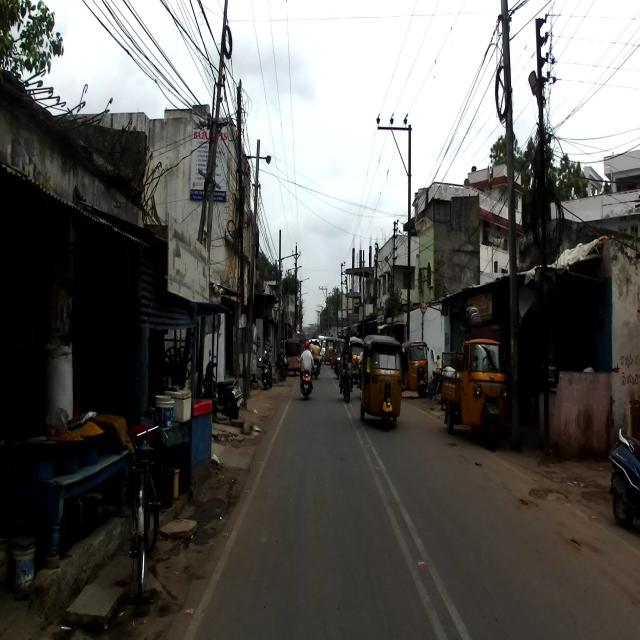autorickshaw: (439, 324, 510, 454), (358, 335, 401, 421)
motorcycle: (339, 355, 353, 404)
scooter: (604, 424, 640, 532), (202, 348, 244, 419), (300, 361, 314, 399)
